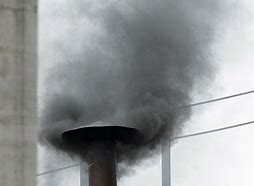smoke: (39, 8, 197, 158)
